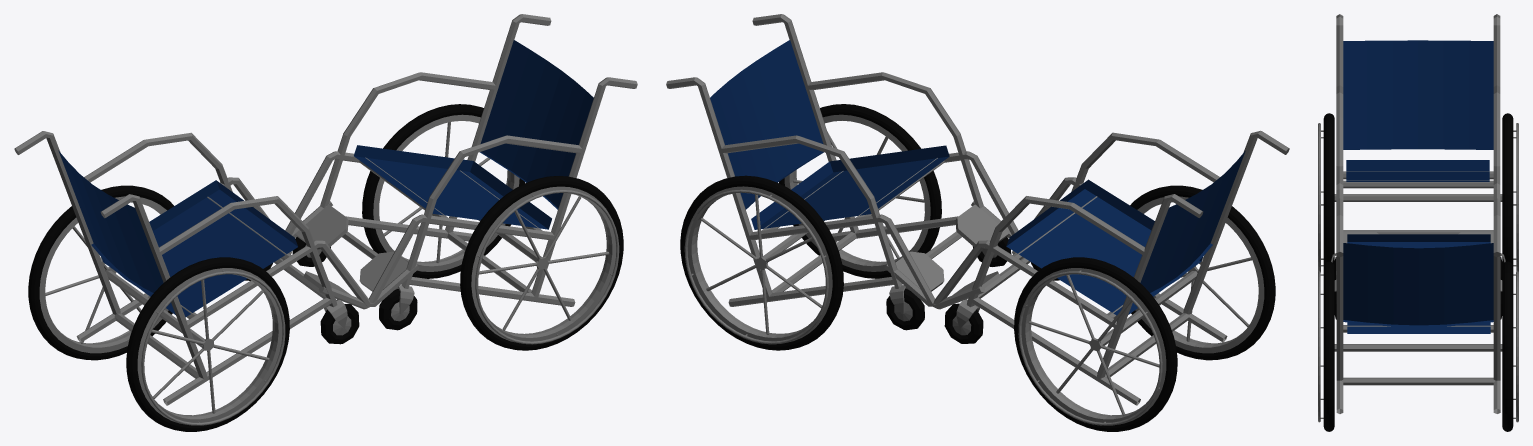
File: FunChair.glb
3 renders of one model, left to right at view 1: azimuth 30°, elevation 25°; view 2: azimuth 150°, elevation 25°; view 3: azimuth 270°, elevation 25°, orthographic. The views are drawn at different scales.
Visible parts, largest first — view 1: main frame, Right_wheel2, right_wheel1, left_wheel1, Left_wheel2; view 2: main frame, left_wheel1, Left_wheel2, right_wheel1, Right_wheel2; view 3: main frame, Left_wheel2, Right_wheel2, left_wheel1, right_wheel1.
Boxes of the visible parts, x1,y1,x2,y2 form: main frame: (14,14,637,405); Right_wheel2: (460,176,623,350); right_wheel1: (126,257,289,431); left_wheel1: (28,185,173,360); Left_wheel2: (362,104,524,278); main frame: (666,14,1289,405); left_wheel1: (1014,257,1177,431); Left_wheel2: (680,175,843,350); right_wheel1: (1130,185,1275,360); Right_wheel2: (779,104,941,278); main frame: (1331,14,1505,413); Left_wheel2: (1502,261,1518,431); Right_wheel2: (1318,261,1334,431); left_wheel1: (1502,113,1518,271); right_wheel1: (1318,113,1334,272).
Size of the model in its own units: 2.05 by 0.9093 by 0.7306.
2 materials, 2 textured.
